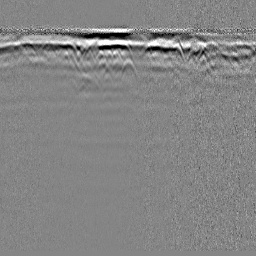cavity: (120, 56, 138, 81)
